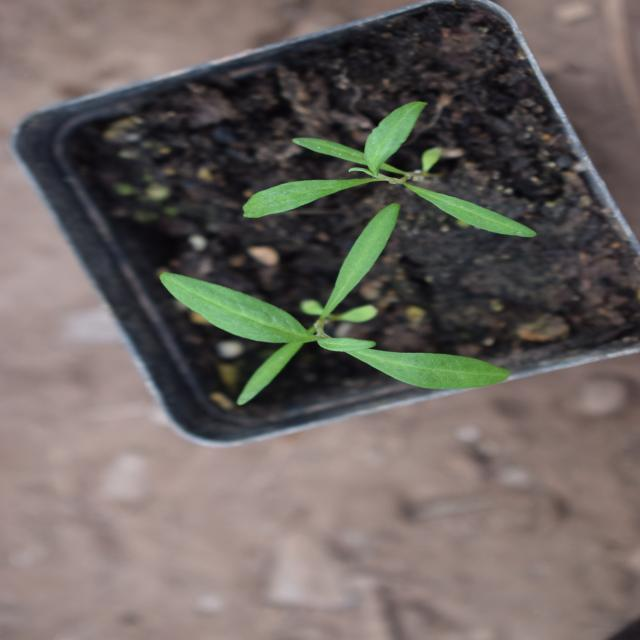white_smart_weed: (215, 154, 469, 503), (384, 219, 536, 499)
